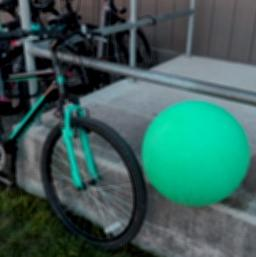algae: (137, 98, 249, 206)
